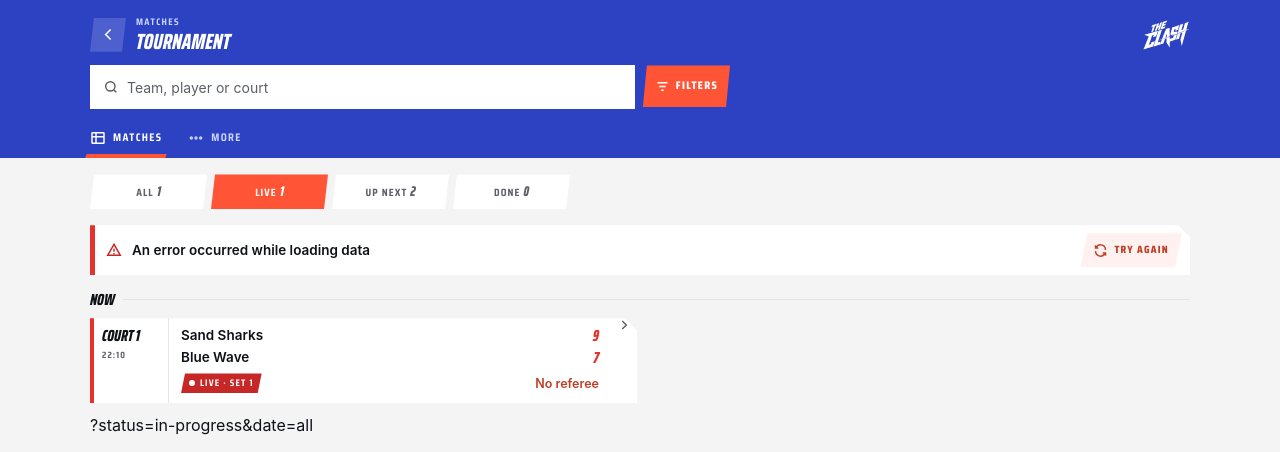
a refresh that fails keeps the list on screen, with a way to try again
Check: the text "An error occurred while loading data" is shown, box [132,242,370,258]
Check: the text "Sand Sharks" is shown, box [181,327,263,343]
Click the button "Try again": point(1131, 250) [1080,233,1182,267]
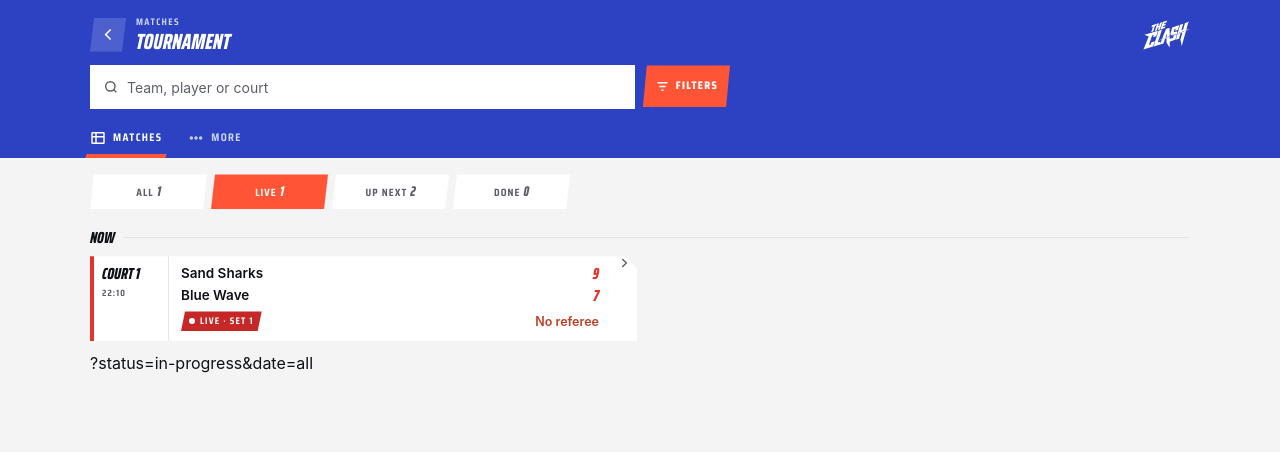
Check: the text "Sand Sharks" is shown, box [181,265,263,281]
Check: the text "An error occurred while loading data" is gone
